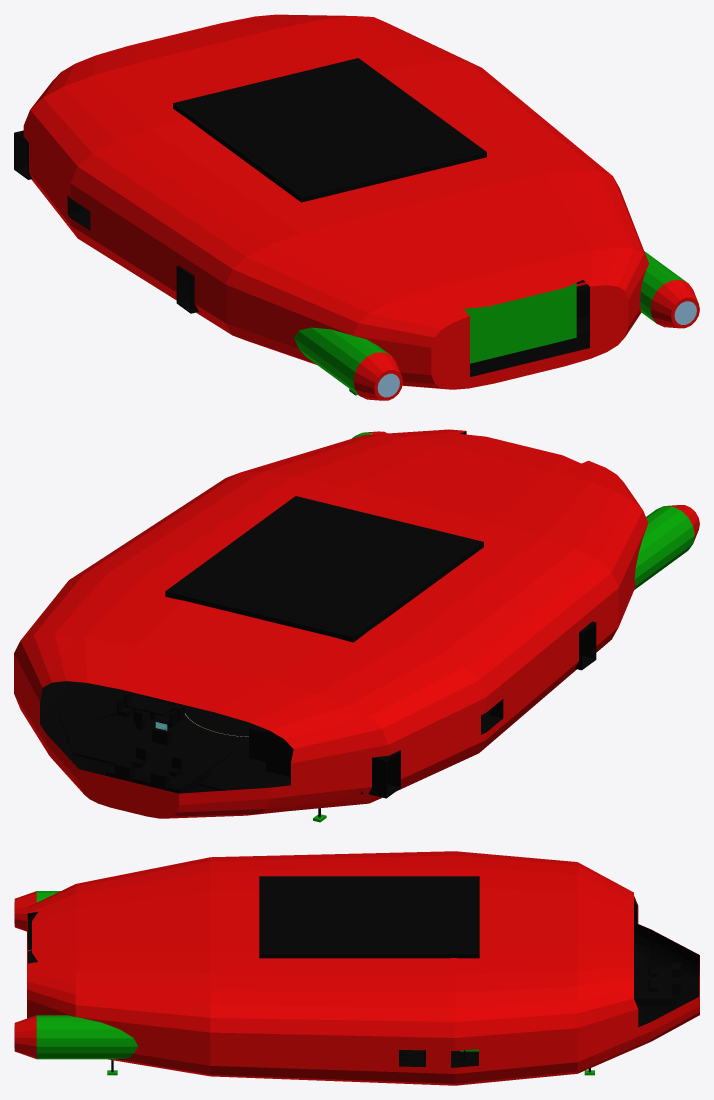
The model's file is neptune3.glb.
The picture shows the model from 3 angles, top to bottom: view 1: azimuth 30°, elevation 25°; view 2: azimuth 150°, elevation 25°; view 3: azimuth 270°, elevation 25°; orthographic projection. The views are drawn at different scales.
Visible parts, largest first — view 1: horizon_neptune3:oval_family_hull, horizon_neptune3:pad_Dorsal scout terrace, horizon_neptune3:cargo_ramp, horizon_neptune3:field_drive_0, horizon_neptune3:field_drive_1, horizon_neptune3:lineage_inner_shell, horizon_neptune3:n3_lock_passages; view 2: horizon_neptune3:oval_family_hull, horizon_neptune3:pad_Dorsal scout terrace, horizon_neptune3:neptune2_deck, horizon_neptune3:field_drive_0, horizon_neptune3:neptune2_cockpit, horizon_neptune3:lineage_inner_shell, horizon_neptune3:n3_flight_deck_floor, horizon_neptune3:n3_lock_passages, horizon_neptune3:neptune2_family_commons, horizon_neptune3:lineage_new_bulkheads, horizon_neptune3:neptune2_hub_lounge; view 3: horizon_neptune3:oval_family_hull, horizon_neptune3:pad_Dorsal scout terrace, horizon_neptune3:field_drive_1, horizon_neptune3:lineage_inner_shell, horizon_neptune3:neptune2_cockpit, horizon_neptune3:field_drive_0, horizon_neptune3:accommodation_floors.
Part boxes in pixels (x1,y1,x2,y2): horizon_neptune3:oval_family_hull: [23, 14, 648, 389]; horizon_neptune3:pad_Dorsal scout terrace: [173, 58, 486, 202]; horizon_neptune3:cargo_ramp: [463, 283, 576, 363]; horizon_neptune3:field_drive_0: [294, 327, 402, 400]; horizon_neptune3:field_drive_1: [640, 251, 699, 328]; horizon_neptune3:lineage_inner_shell: [470, 334, 589, 376]; horizon_neptune3:n3_lock_passages: [14, 130, 198, 313]; horizon_neptune3:oval_family_hull: [14, 429, 648, 818]; horizon_neptune3:pad_Dorsal scout terrace: [165, 496, 483, 642]; horizon_neptune3:neptune2_deck: [57, 681, 290, 790]; horizon_neptune3:field_drive_0: [634, 505, 699, 589]; horizon_neptune3:neptune2_cockpit: [106, 747, 211, 793]; horizon_neptune3:lineage_inner_shell: [40, 432, 466, 792]; horizon_neptune3:n3_flight_deck_floor: [127, 737, 231, 776]; horizon_neptune3:n3_lock_passages: [369, 621, 596, 798]; horizon_neptune3:neptune2_family_commons: [116, 692, 265, 761]; horizon_neptune3:lineage_new_bulkheads: [266, 729, 293, 777]; horizon_neptune3:neptune2_hub_lounge: [185, 705, 249, 736]; horizon_neptune3:oval_family_hull: [27, 851, 699, 1085]; horizon_neptune3:pad_Dorsal scout terrace: [259, 876, 479, 958]; horizon_neptune3:field_drive_1: [14, 1015, 138, 1059]; horizon_neptune3:lineage_inner_shell: [27, 900, 699, 1024]; horizon_neptune3:neptune2_cockpit: [634, 960, 680, 1005]; horizon_neptune3:field_drive_0: [14, 891, 60, 931]; horizon_neptune3:accommodation_floors: [399, 1050, 478, 1060].
Bounding box in the file's own units: 33.85 × 9.67 × 56.05.
